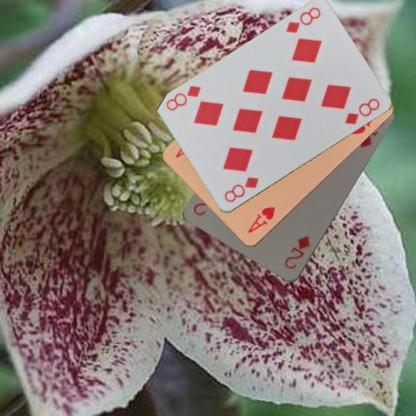2d: (281, 233, 312, 271)
8d: (221, 174, 260, 204), (283, 5, 322, 35)
Ah: (245, 204, 277, 235)
